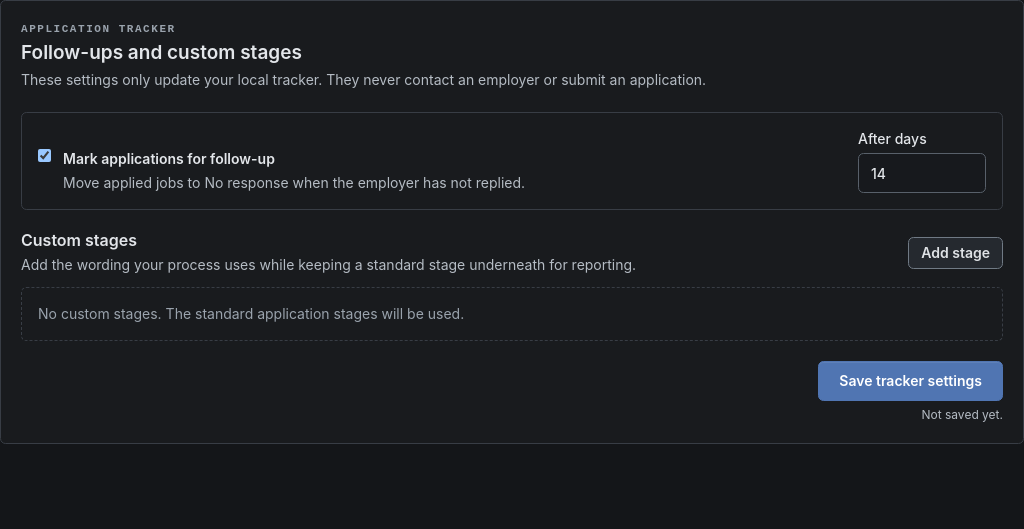
Scenario: tracker draft recovery › holds all tracker edits while saving and restores controls after a failed save
The width and height of the screenshot is (1024, 529).
Click the button "Add stage": (956, 253) [908,237,1003,269]
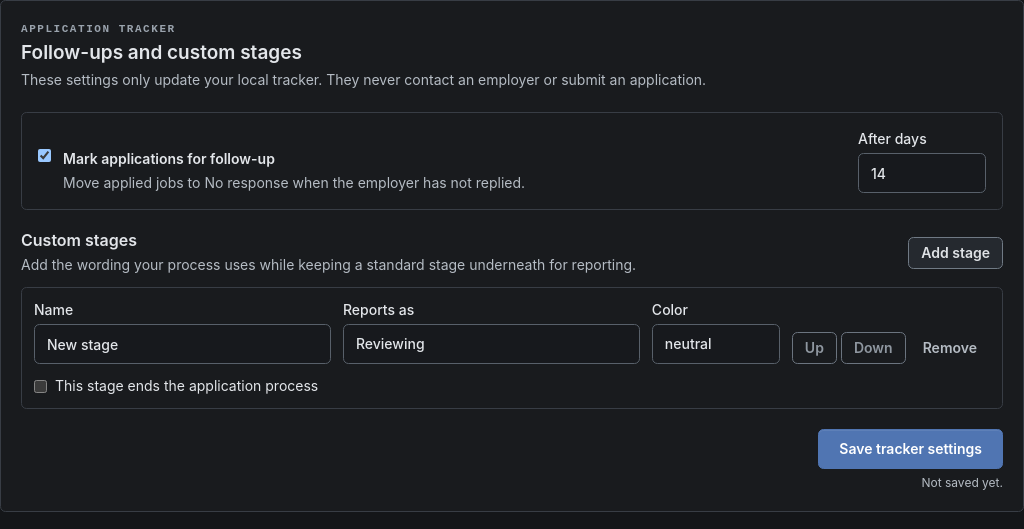
Click the button "Save tracker settings": (911, 449) [818,429,1003,469]
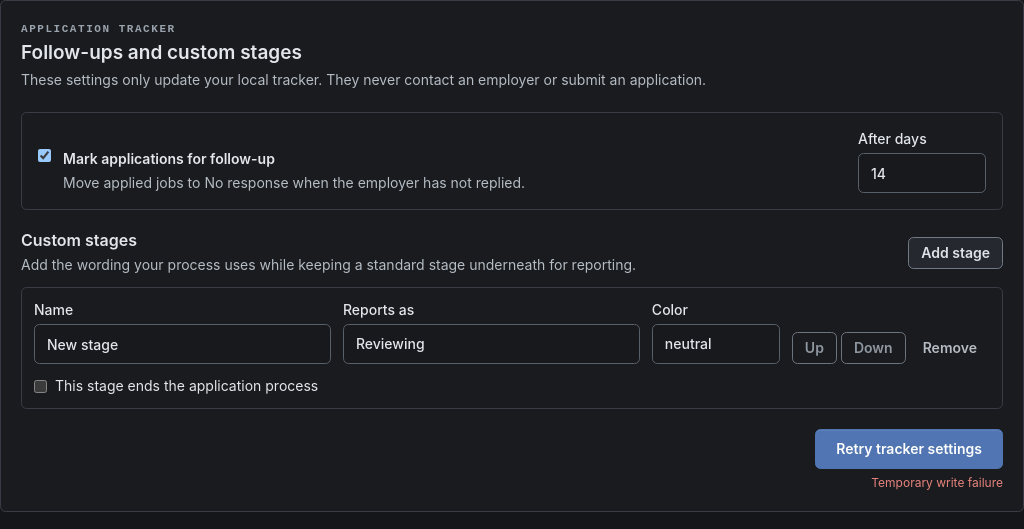
Check: the number field labelled "After days" is enabled, box [858,153,986,193]
Check: the field labelled "Name" holds "New stage", box [34,324,331,364]
Check: the text "Temporary write failure" is shown, box [871,475,1003,491]
